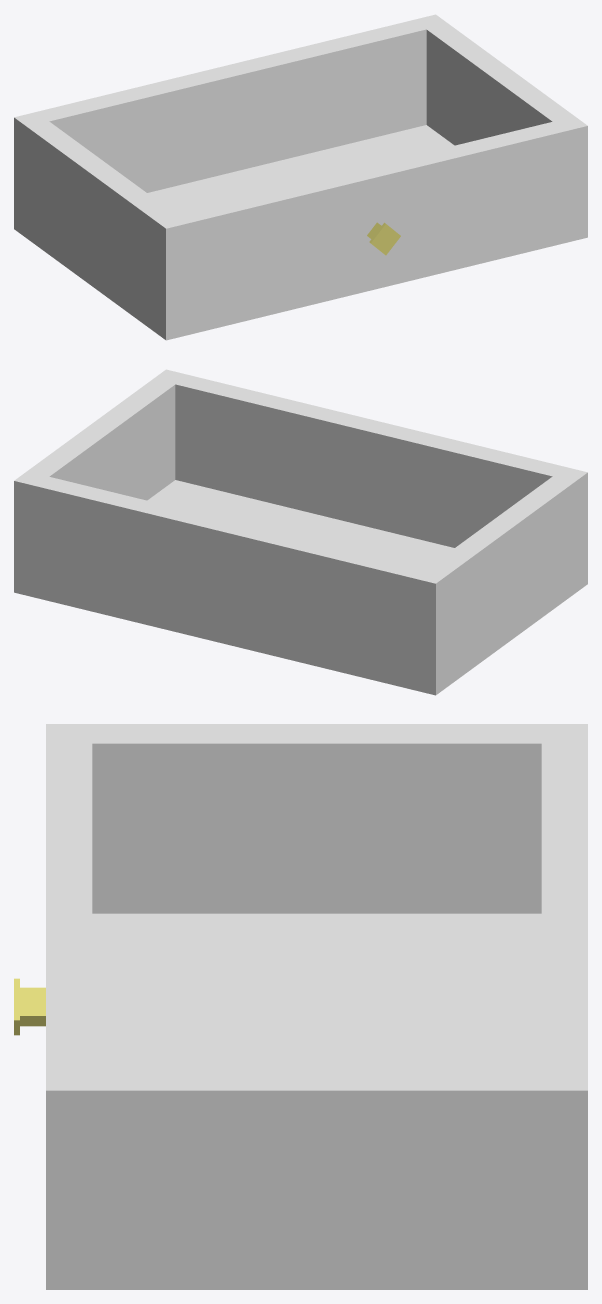
The model's file is Itr_Bed_Bunk2_Drawer3_04.FBX.
3 renders of one model, top to bottom at view 1: azimuth 30°, elevation 25°; view 2: azimuth 150°, elevation 25°; view 3: azimuth 270°, elevation 25°, orthographic. The views are drawn at different scales.
Visible parts, largest first — view 1: Itr_Bed_Bunk2_Drawer3_04; view 2: Itr_Bed_Bunk2_Drawer3_04; view 3: Itr_Bed_Bunk2_Drawer3_04.
Boxes of the visible parts, x1,y1,x2,y2 form: Itr_Bed_Bunk2_Drawer3_04: (14,14,587,340); Itr_Bed_Bunk2_Drawer3_04: (14,369,587,695); Itr_Bed_Bunk2_Drawer3_04: (14,724,587,1289).
Bounding box in the file's own units: 62.85 × 15.91 × 41.58.
